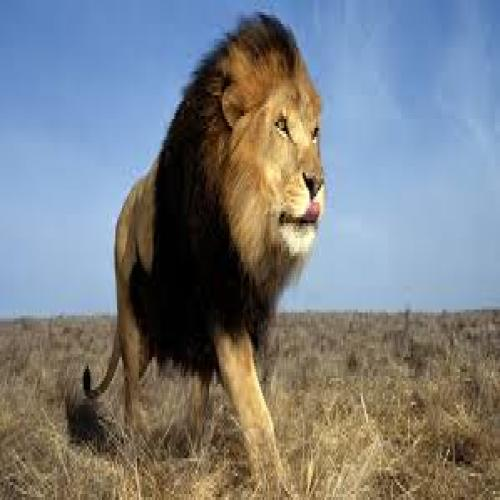lion-endangered: (82, 13, 324, 490)
